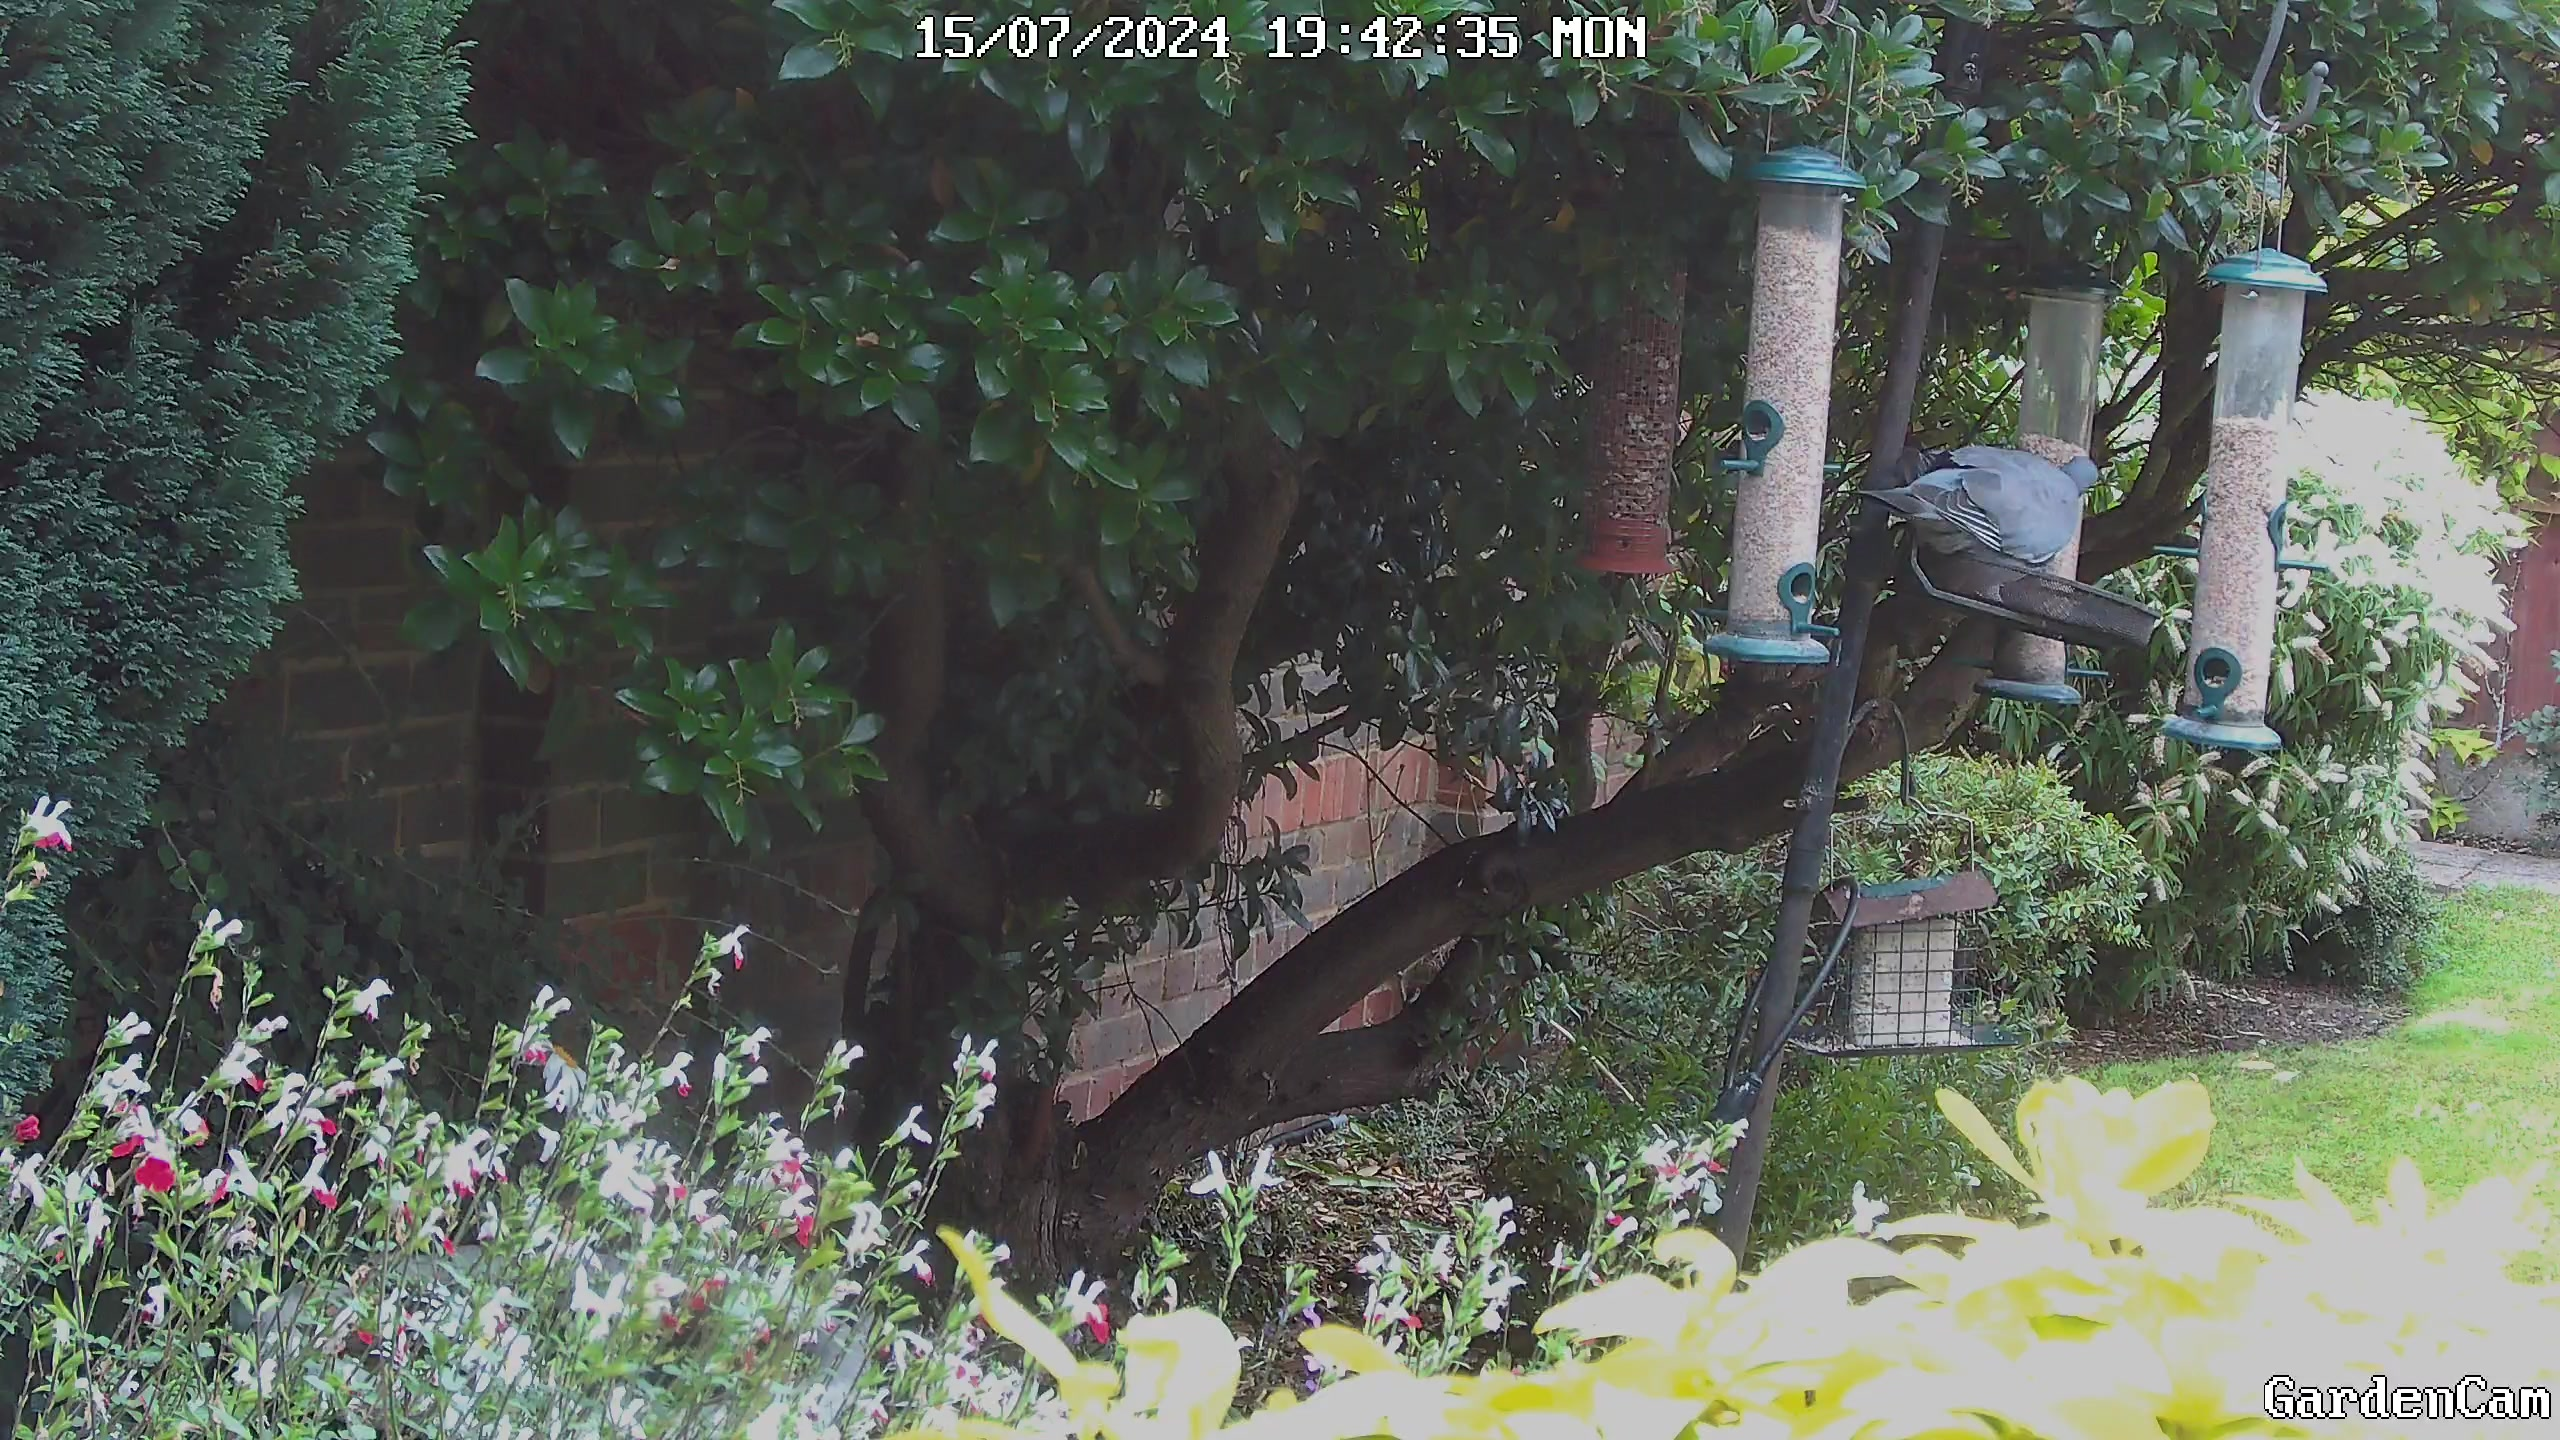Wood_Pigeon: (1823, 418, 2135, 594)
